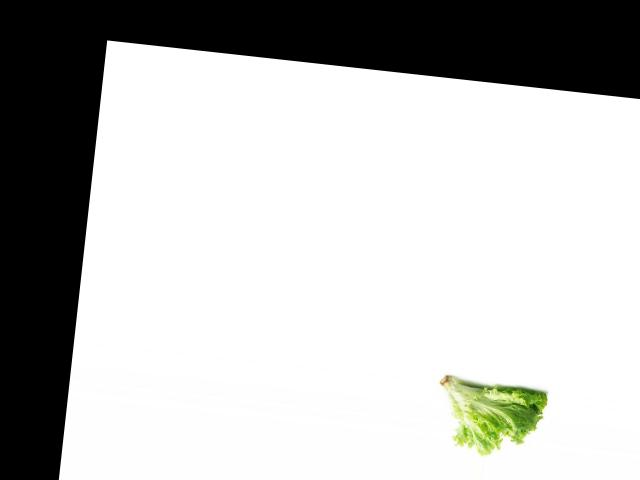lettuce: (429, 372, 548, 462)
